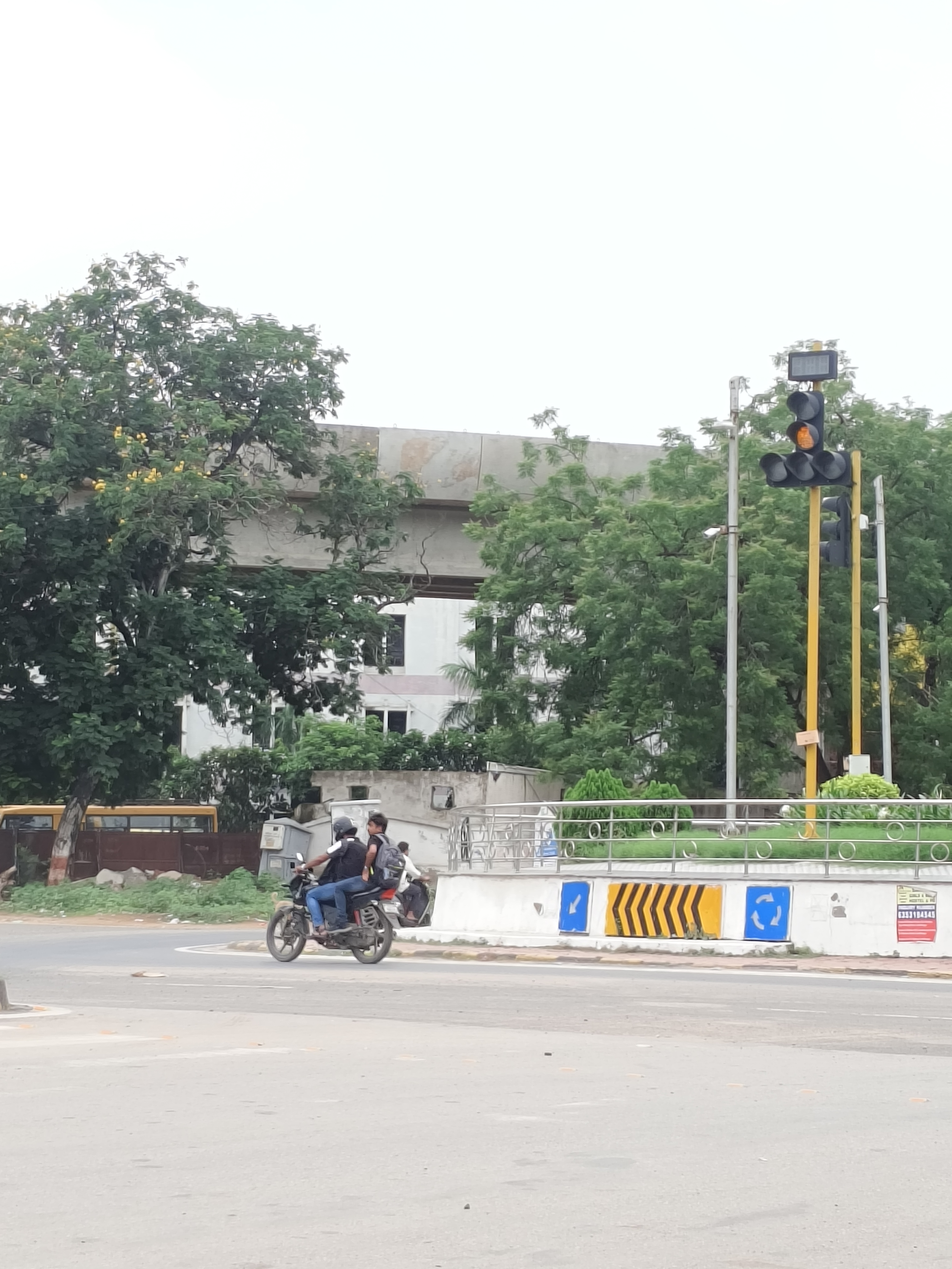BikeWithRider: (258, 807, 411, 967)
Helmet: (329, 811, 360, 846)
NoHelmet: (363, 809, 392, 842)
